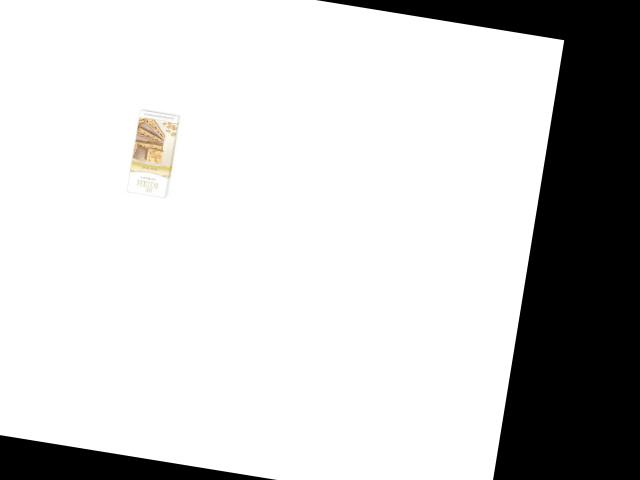chocolate: (117, 104, 196, 205)
